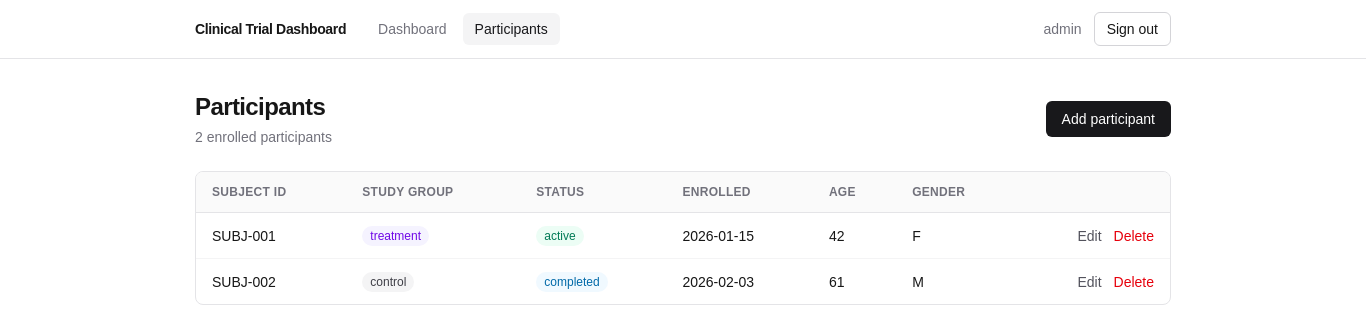
Test: participant deletion › cancelling the confirmation leaves the participant alone
The width and height of the screenshot is (1366, 327).
Click the button with aria-label "Delete SUBJ-001": click(1134, 236) [1114, 226, 1154, 246]
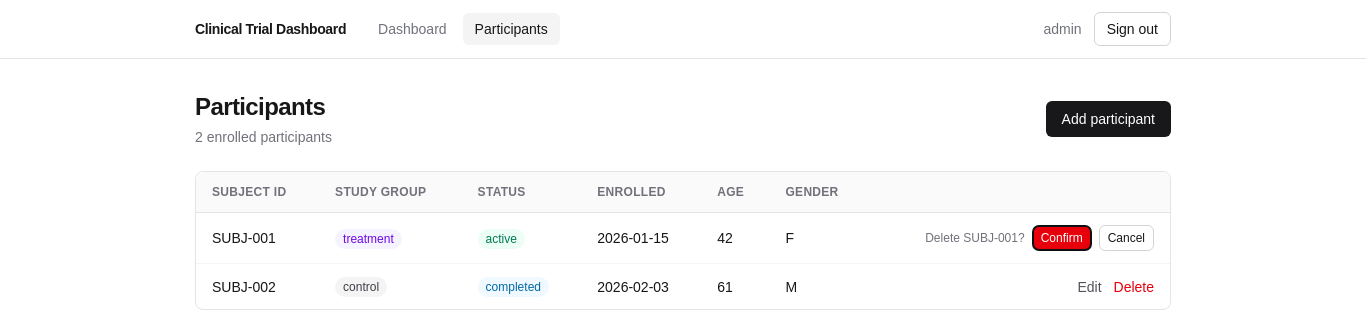
Click the button "Cancel": click(1126, 238) [1099, 225, 1154, 251]
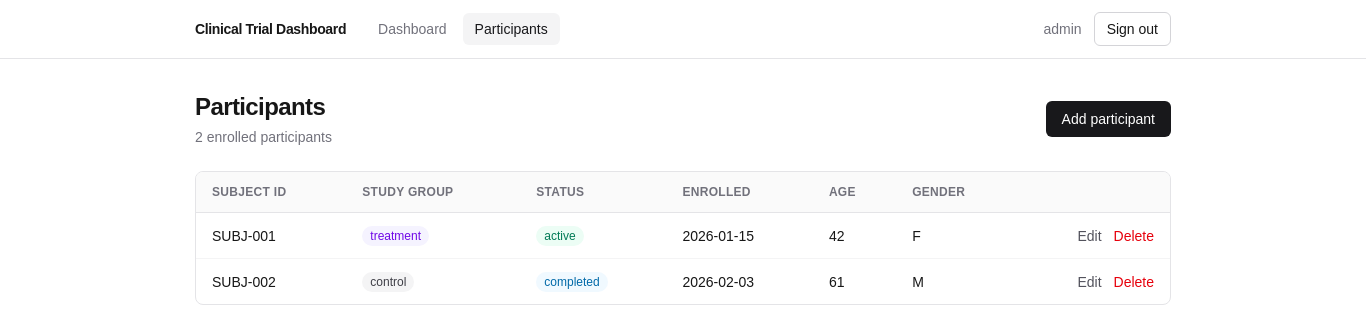
Check: the text "SUBJ-001" is shown, box [196, 212, 346, 258]
Check: the button with aria-label "Delete SUBJ-001" is shown, box [1114, 226, 1154, 246]
